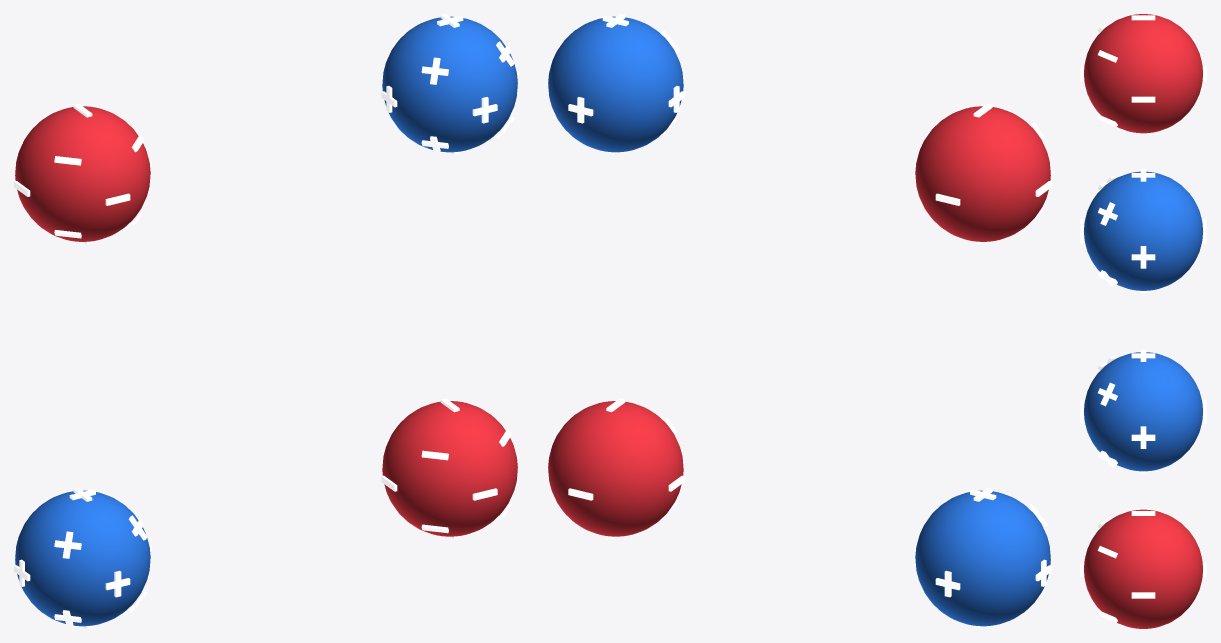
Rendered from quadrupolo_elettrico_animato.gltf.
The picture shows the model from 3 angles, left to right: view 1: azimuth 30°, elevation 25°; view 2: azimuth 150°, elevation 25°; view 3: azimuth 270°, elevation 25°; orthographic projection. The views are drawn at different scales.
Parts seen in each view (by area): view 1: Quadrupole_Charges; view 2: Quadrupole_Charges; view 3: Quadrupole_Charges.
Part boxes in pixels (x1,y1,x2,y2): Quadrupole_Charges: (14, 14, 518, 628); Quadrupole_Charges: (547, 14, 1051, 628); Quadrupole_Charges: (1080, 14, 1206, 628).
Size of what is drawn, in the model's own units: 4.01 by 4.01 by 1.01.
